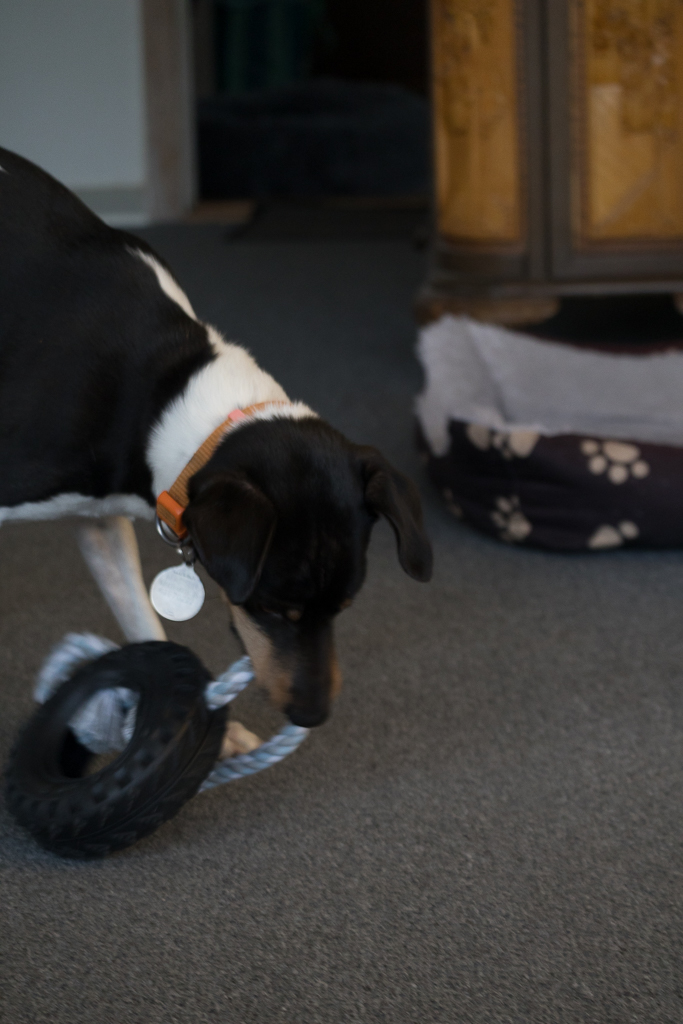Dog: (0, 131, 450, 793)
